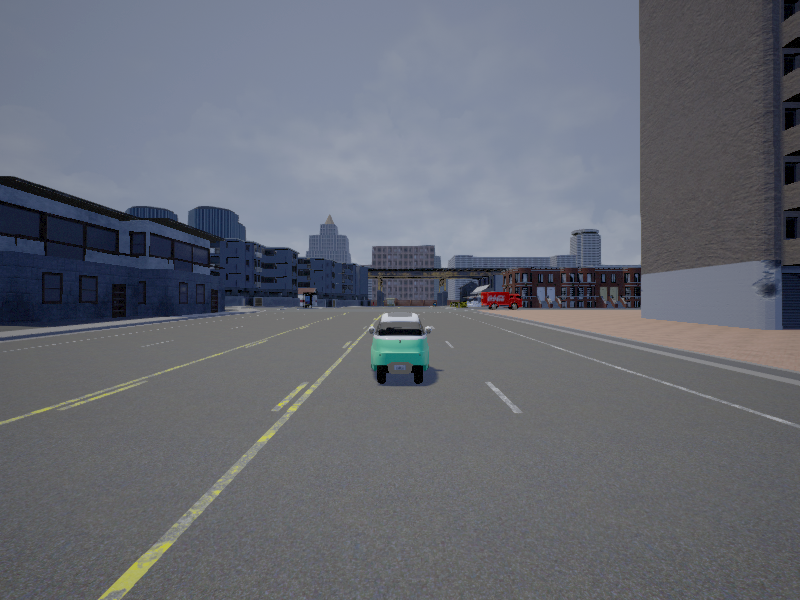Benign: (369, 311, 432, 384), (482, 292, 524, 311)
